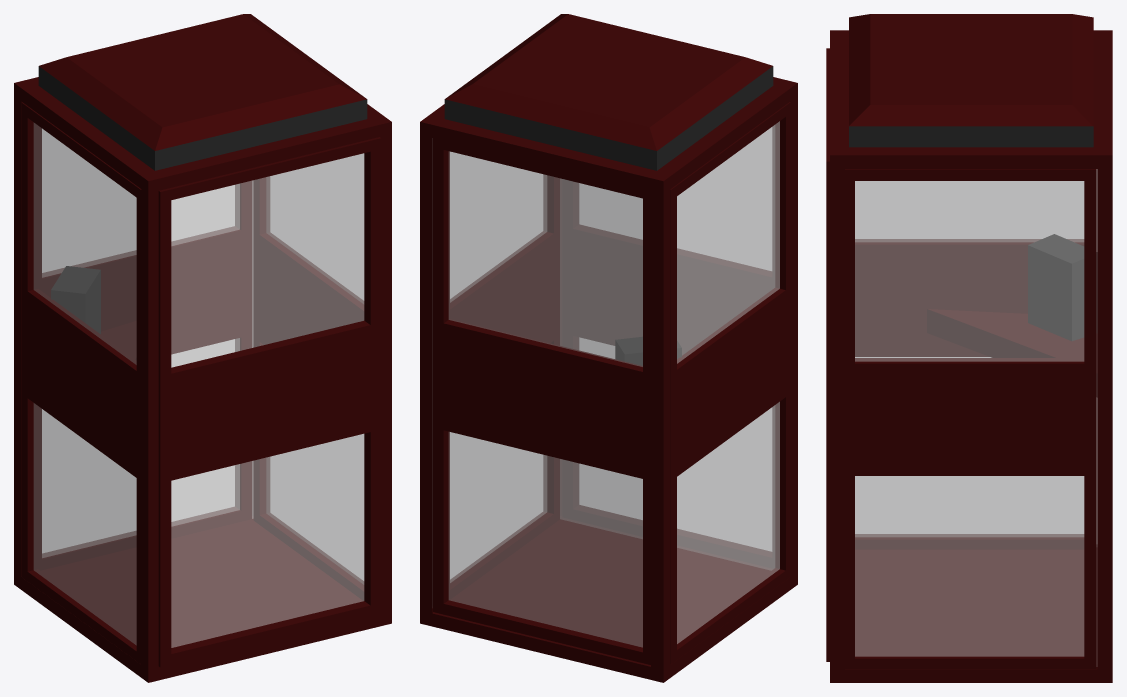
Rendered from save_point.obj.
The picture shows the model from 3 angles, left to right: view 1: azimuth 30°, elevation 25°; view 2: azimuth 150°, elevation 25°; view 3: azimuth 270°, elevation 25°; orthographic projection. The views are drawn at different scales.
Parts seen in each view (by area): view 1: Box002, Box001, Box004, Box005, Box003, Box006, Object001, Box008, Box007; view 2: Box002, Box001, Box003, Box005, Box004, Box006, Object001, Box008; view 3: Box002, Box001, Box006, Box005, Box008, Box007, Object001, Box004.
Part boxes in pixels (x1,y1,x2,y2): Box002: (33, 123, 364, 647); Box001: (14, 14, 391, 682); Box004: (158, 137, 381, 667); Box005: (21, 102, 141, 664); Box003: (38, 126, 251, 570); Box006: (253, 176, 364, 600); Object001: (38, 66, 367, 170); Box008: (51, 266, 100, 333); Box007: (101, 321, 136, 360); Box002: (432, 121, 779, 647); Box001: (420, 14, 797, 682); Box003: (433, 138, 650, 664); Box005: (670, 102, 790, 663); Box004: (562, 125, 774, 568); Box006: (432, 138, 559, 605); Object001: (444, 66, 773, 170); Box008: (615, 336, 681, 365); Box002: (855, 169, 1097, 666); Box001: (830, 14, 1112, 682); Box006: (845, 169, 1096, 668); Box005: (855, 239, 1084, 549); Box008: (1028, 234, 1097, 340); Box007: (927, 309, 1097, 396); Object001: (849, 126, 1093, 147); Box004: (826, 48, 829, 661).
Bounding box in the file's own units: 68.26 × 143 × 66.05.
